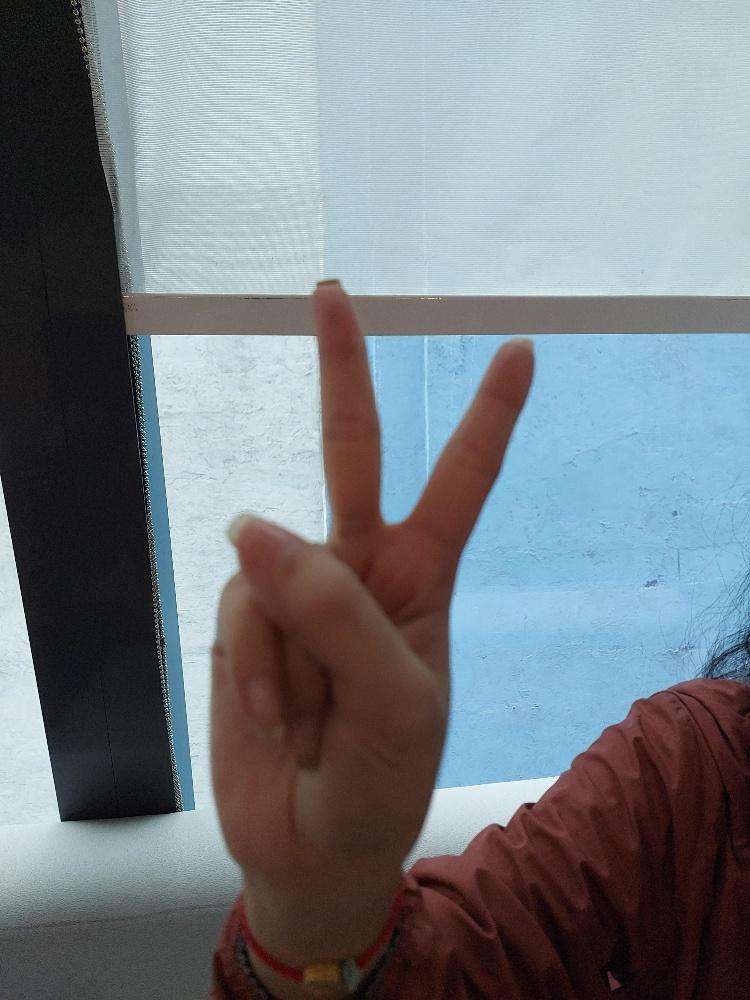v: (206, 271, 539, 874)
